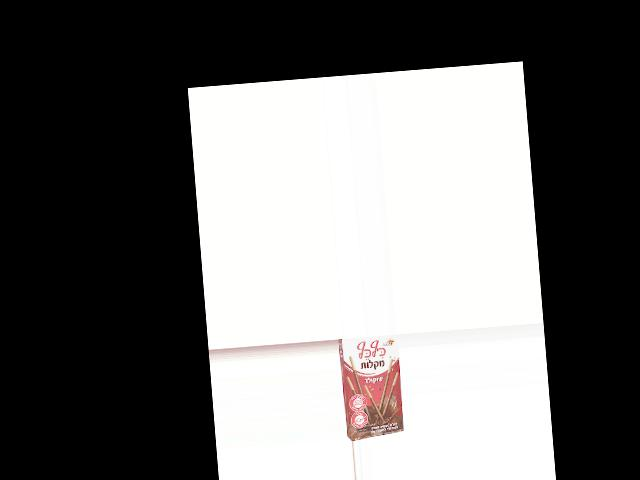chocolate: (339, 334, 405, 434)
